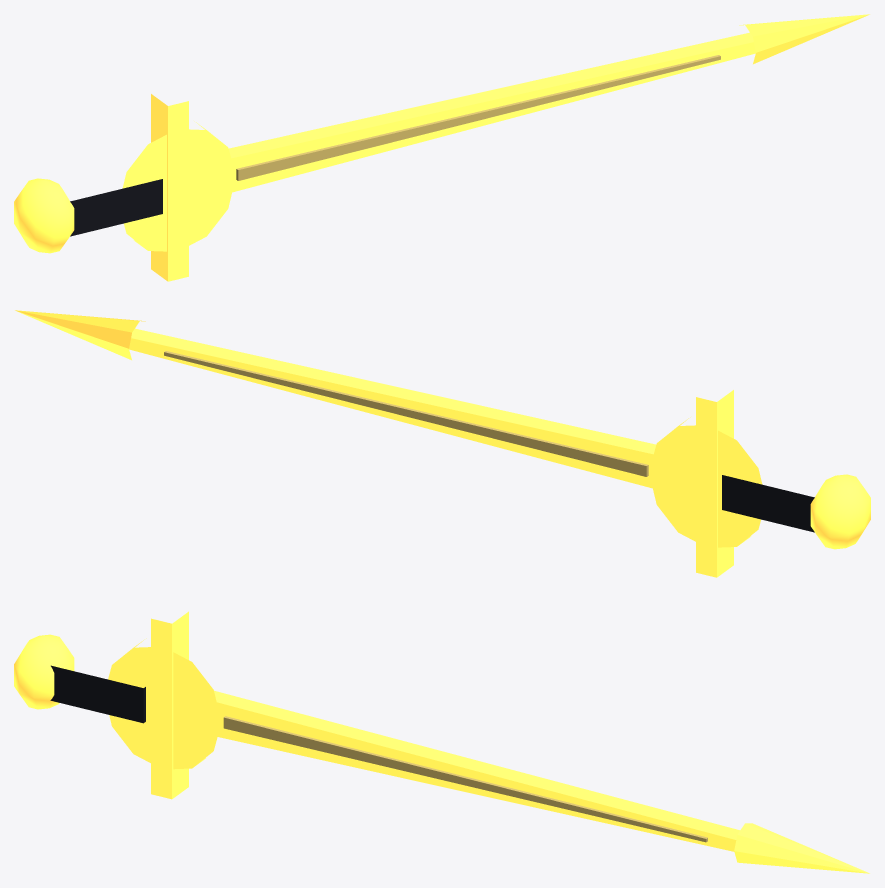
The model's file is divine-rapier.glb.
3 views of the same model, one above another, from view 1: azimuth 30°, elevation 25°; view 2: azimuth 150°, elevation 25°; view 3: azimuth 330°, elevation 25° (orthographic).
Visible parts, largest first — view 1: divine-rapier-blade, divine-rapier-guard, divine-rapier-quillon, divine-rapier-fuller, divine-rapier-pommel, divine-rapier-grip, divine-rapier-tip; view 2: divine-rapier-blade, divine-rapier-guard, divine-rapier-quillon, divine-rapier-fuller, divine-rapier-pommel, divine-rapier-grip, divine-rapier-tip; view 3: divine-rapier-blade, divine-rapier-guard, divine-rapier-quillon, divine-rapier-fuller, divine-rapier-grip, divine-rapier-tip, divine-rapier-pommel.
Part boxes in pixels (<box>): divine-rapier-blade: <box>229,32,755,192</box>; divine-rapier-guard: <box>122,121,235,251</box>; divine-rapier-quillon: <box>151,94,188,281</box>; divine-rapier-fuller: <box>236,55,720,180</box>; divine-rapier-pommel: <box>14,178,74,253</box>; divine-rapier-grip: <box>70,179,162,236</box>; divine-rapier-tip: <box>739,14,869,64</box>; divine-rapier-blade: <box>129,328,655,488</box>; divine-rapier-guard: <box>649,417,762,547</box>; divine-rapier-quillon: <box>696,390,733,577</box>; divine-rapier-fuller: <box>164,351,648,476</box>; divine-rapier-pommel: <box>810,474,870,549</box>; divine-rapier-grip: <box>722,475,814,532</box>; divine-rapier-tip: <box>15,310,145,360</box>; divine-rapier-blade: <box>214,690,739,851</box>; divine-rapier-guard: <box>108,638,221,769</box>; divine-rapier-quillon: <box>151,611,188,799</box>; divine-rapier-fuller: <box>223,716,707,842</box>; divine-rapier-grip: <box>50,665,145,723</box>; divine-rapier-tip: <box>734,823,869,873</box>; divine-rapier-pommel: <box>14,634,74,709</box>.
Bounding box in the file's own units: 2.03 × 0.4 × 0.1447.
